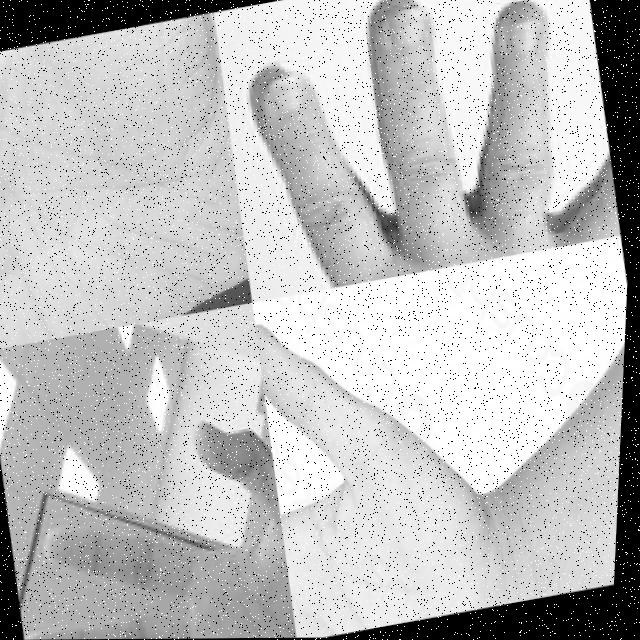hand: (204, 0, 630, 303), (246, 283, 538, 638), (0, 12, 264, 351), (0, 411, 310, 640)
